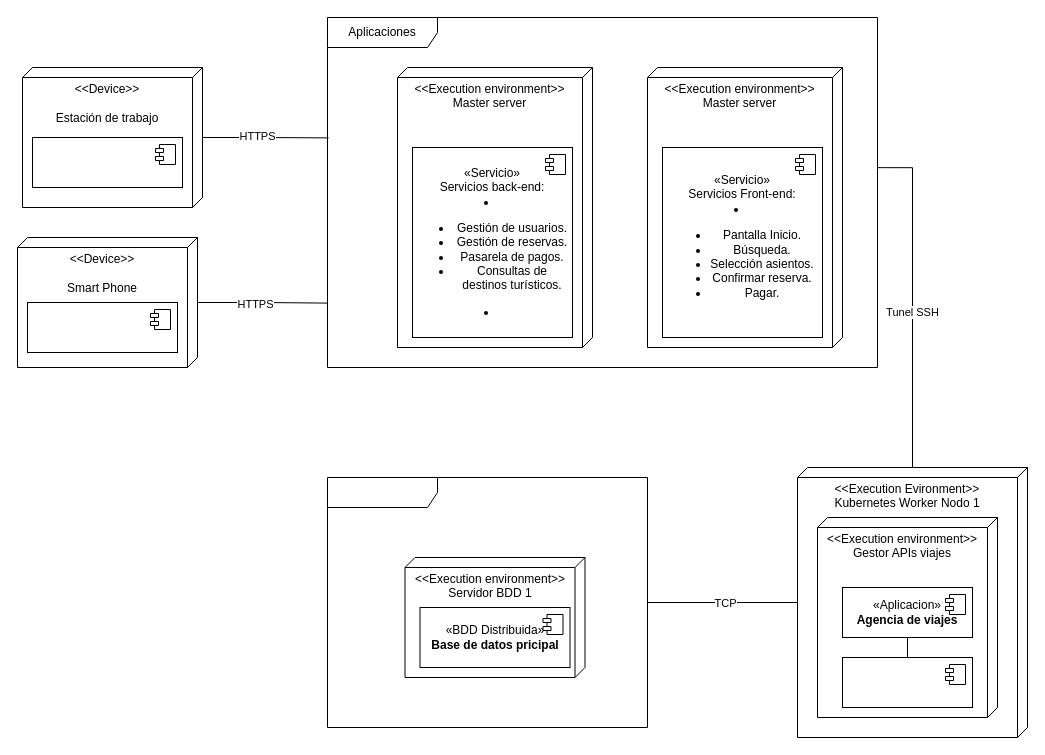
The diagram is 1045 pixels wide and 755 high, and some of its shapes have lost their labels. The centre of each missing label's shape, as x and y in pixels:
Servidores: the point at 487,602
«Aplicacion» App Nativa: the point at 102,327
«Aplicacion» Sitio web: the point at 107,162
«Aplicación» Aplicación de vuelo: the point at 907,682
